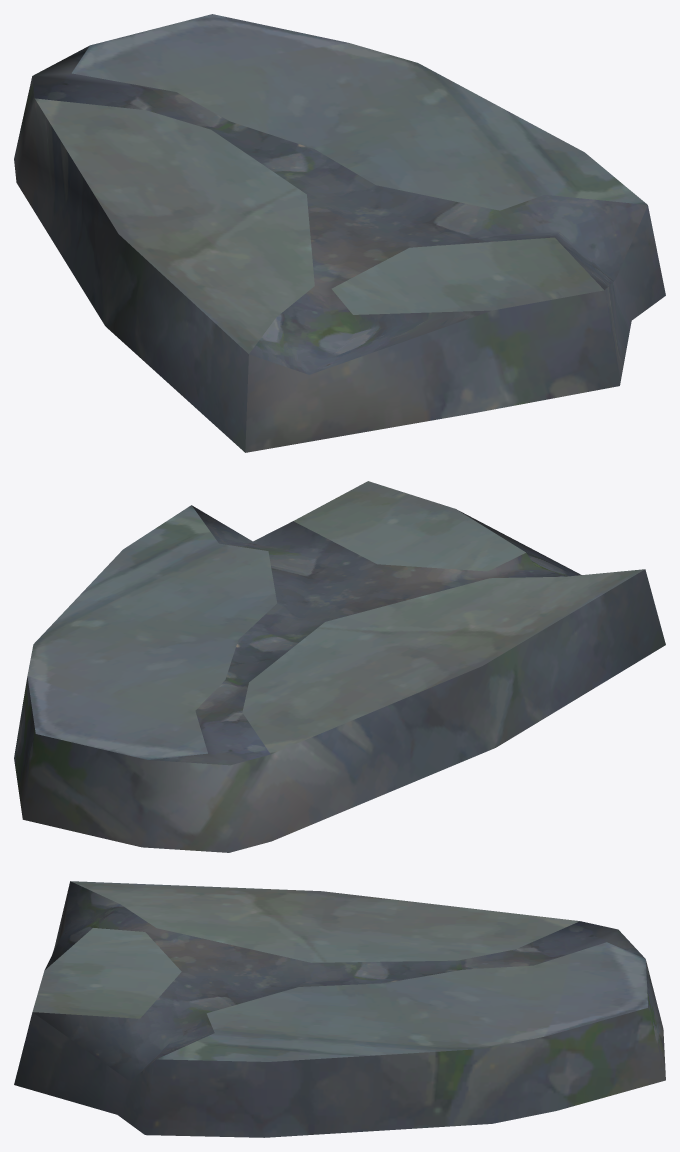
Rendered from Area_MdBuild_WdPlatform10.fbx.
3 views of the same model, one above another, from view 1: azimuth 30°, elevation 25°; view 2: azimuth 150°, elevation 25°; view 3: azimuth 270°, elevation 25° (orthographic). The views are drawn at different scales.
Visible parts, largest first — view 1: Area_MdBuild_WdPlatform10_Vo; view 2: Area_MdBuild_WdPlatform10_Vo; view 3: Area_MdBuild_WdPlatform10_Vo.
Part boxes in pixels (box(x1,y1,x2,y2)): Area_MdBuild_WdPlatform10_Vo: box(14, 14, 665, 452); Area_MdBuild_WdPlatform10_Vo: box(14, 481, 665, 852); Area_MdBuild_WdPlatform10_Vo: box(14, 881, 665, 1137).
Bounding box in the file's own units: 1.72 × 0.3 × 2.49.
2 materials, 2 textured.
